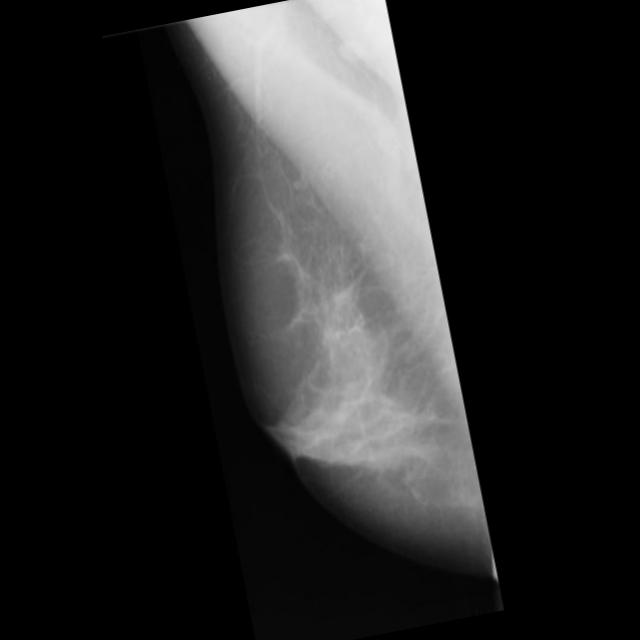CALC: (307, 278, 373, 344)
